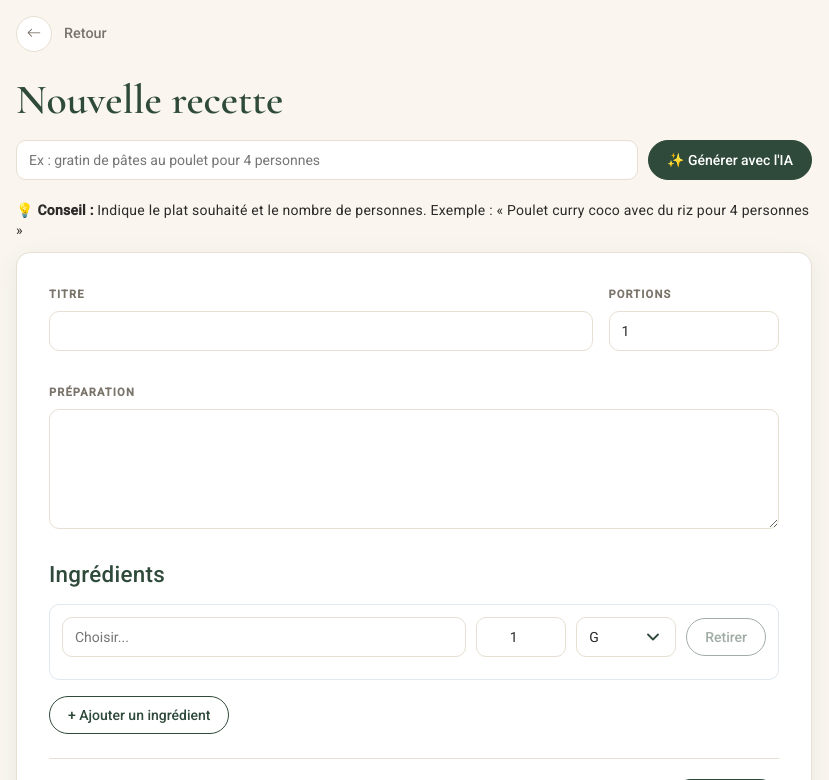
Test case: RecipeFormComponent › disables the remove button while only one line is left
Check: the button with class "ghost" showing "Retirer" is disabled, box [686,618,766,656]
What coordinates should you click on to do the following:
click the button with class "add"
I would click on:
 (139, 715)
Its box is [49,696,230,734].
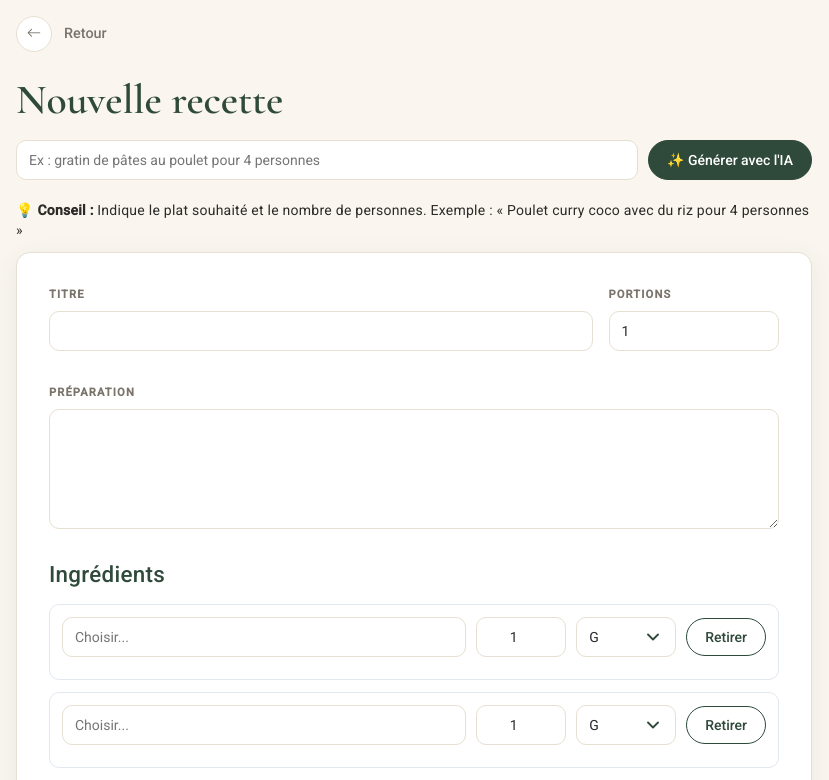
Check: the 1st button with class "ghost" is enabled, box [686,618,766,656]
